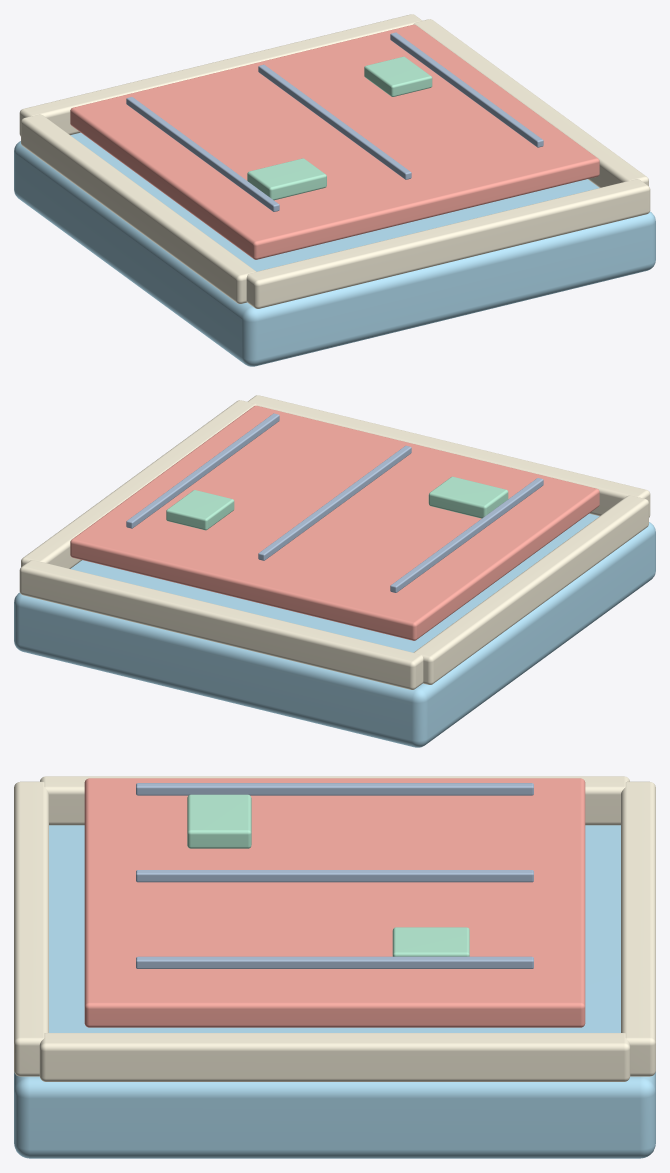
The model's file is platform_candy_falling.glb.
3 views of the same model, one above another, from view 1: azimuth 30°, elevation 25°; view 2: azimuth 150°, elevation 25°; view 3: azimuth 270°, elevation 25° (orthographic). The views are drawn at different scales.
Parts seen in each view (by area): view 1: CoralCakeTop, CloudCakeBase, CreamRimBack, CreamRimLeft, CreamRimFront, CreamRimRight, MintCandyChip, BreakScore.002, BreakScore, BreakScore.001, MintCandyChip2; view 2: CoralCakeTop, CloudCakeBase, CreamRimFront, CreamRimLeft, CreamRimBack, CreamRimRight, MintCandyChip, BreakScore, BreakScore.002, BreakScore.001, MintCandyChip2; view 3: CoralCakeTop, CloudCakeBase, CreamRimRight, CreamRimFront, CreamRimBack, CreamRimLeft, BreakScore.001, BreakScore.002, BreakScore, MintCandyChip, MintCandyChip2.
Boxes of the visible parts, box(x1,y1,x2,y2) form: CoralCakeTop: box(70, 24, 599, 259); CloudCakeBase: box(14, 132, 655, 366); CreamRimBack: box(246, 179, 650, 308); CreamRimLeft: box(21, 114, 256, 303); CreamRimFront: box(19, 14, 422, 136); CreamRimRight: box(413, 19, 648, 187); MintCandyChip: box(247, 158, 326, 200); BreakScore.002: box(390, 32, 543, 147); BreakScore: box(126, 97, 279, 211); BreakScore.001: box(258, 64, 411, 179); MintCandyChip2: box(364, 56, 432, 96); CoralCakeTop: box(70, 405, 599, 640); CloudCakeBase: box(14, 513, 655, 747); CreamRimFront: box(19, 560, 423, 689); CreamRimLeft: box(413, 495, 648, 684); CreamRimBack: box(247, 395, 650, 517); CreamRimRight: box(21, 400, 256, 568); MintCandyChip: box(428, 476, 508, 518); BreakScore: box(390, 478, 543, 592); BreakScore.002: box(126, 413, 279, 528); BreakScore.001: box(258, 445, 411, 560); MintCandyChip2: box(166, 490, 234, 530); CoralCakeTop: box(84, 778, 585, 1027); CloudCakeBase: box(14, 825, 655, 1158); CreamRimRight: box(39, 1033, 630, 1081); CreamRimFront: box(621, 781, 655, 1076); CreamRimBack: box(14, 781, 48, 1076); CreamRimLeft: box(40, 776, 629, 825); BreakScore.001: box(136, 870, 533, 882); BreakScore.002: box(136, 956, 533, 968); BreakScore: box(136, 783, 533, 795); MintCandyChip: box(187, 794, 251, 848); MintCandyChip2: box(392, 927, 469, 956).
Bounding box in the file's own units: 2.2 × 0.5925 × 2.2.
